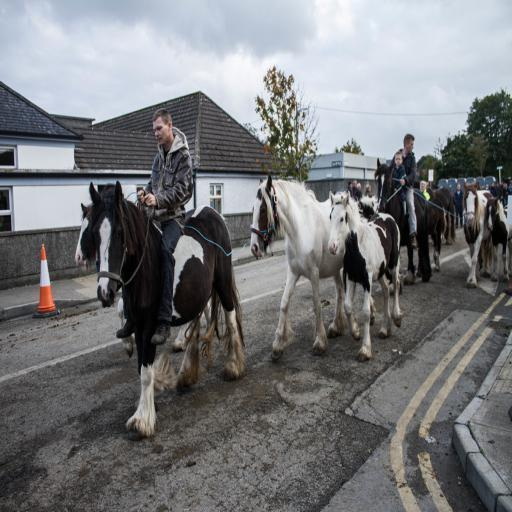horse: (89, 180, 245, 440), (250, 173, 344, 362), (74, 201, 188, 353), (328, 188, 402, 362), (375, 154, 429, 286), (462, 176, 488, 288), (486, 196, 512, 276), (426, 196, 443, 270), (436, 189, 454, 248)
